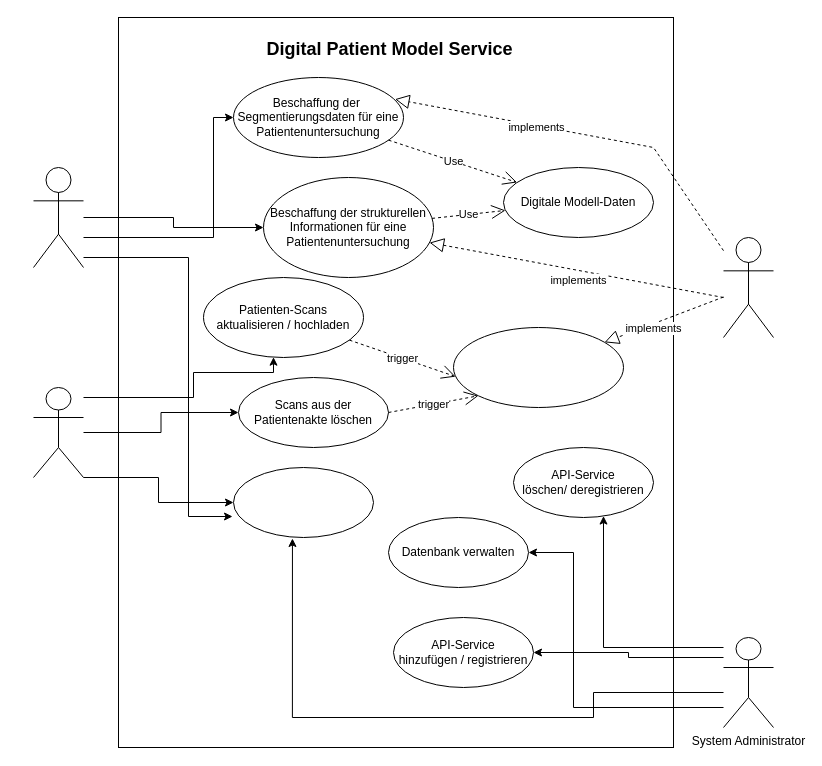
This 822x766 diagram has some shape labels left out. Each missing label, with the centre of its shape:
Authentifizierung und Autorisierung: the point at 303,502
Digitale Modell-Daten erstellen / aktualisieren: the point at 538,367
Doctor: the point at 58,217
Lab Technician: the point at 58,432
Service Provider: the point at 748,287
